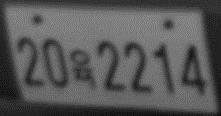0: (41, 37, 69, 88)
1: (150, 42, 179, 95)
2: (123, 41, 154, 94), (96, 40, 127, 92), (15, 35, 45, 86)
4: (181, 43, 208, 96)
육: (67, 47, 97, 90)
